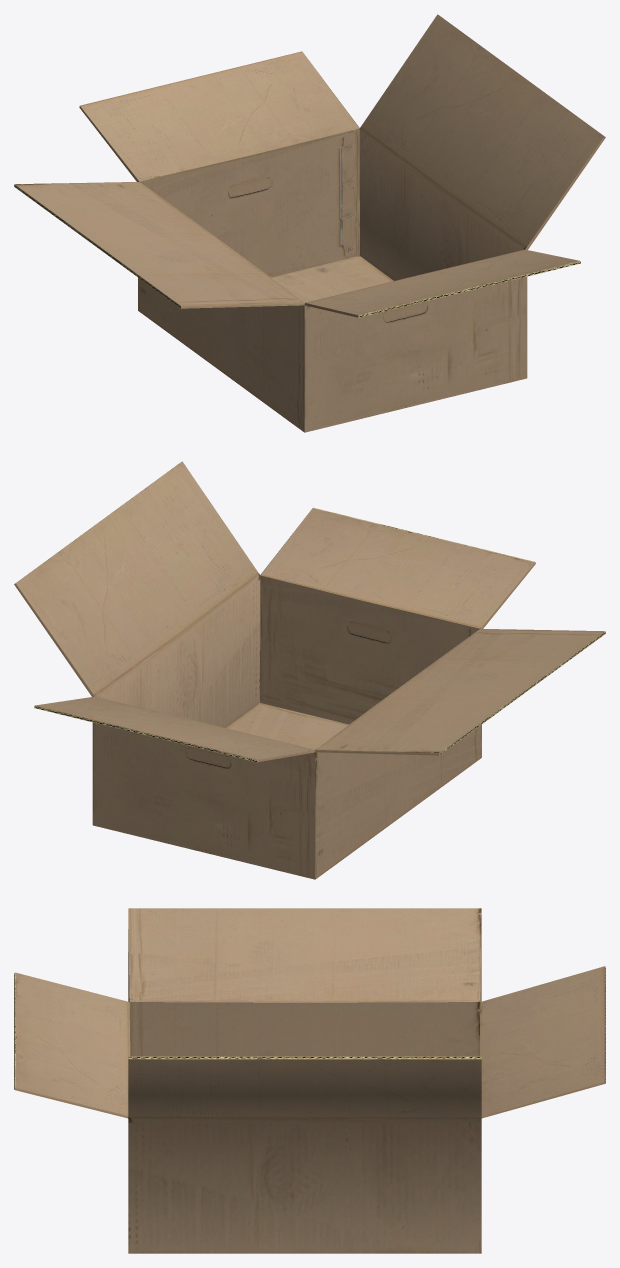
Rendered from SM_Cardboard_Box_07.glb.
3 renders of one model, top to bottom at view 1: azimuth 30°, elevation 25°; view 2: azimuth 150°, elevation 25°; view 3: azimuth 270°, elevation 25°, orthographic. The views are drawn at different scales.
Parts seen in each view (by area): view 1: SM_Cardboard_Box_07; view 2: SM_Cardboard_Box_07; view 3: SM_Cardboard_Box_07.
Part boxes in pixels (left/top/right/bottom): SM_Cardboard_Box_07: left=14, top=14, right=605, bottom=432; SM_Cardboard_Box_07: left=14, top=461, right=605, bottom=879; SM_Cardboard_Box_07: left=14, top=908, right=605, bottom=1253.
Size of the model in its own units: 0.9792 by 0.4914 by 1.11.
1 material, 1 textured.
